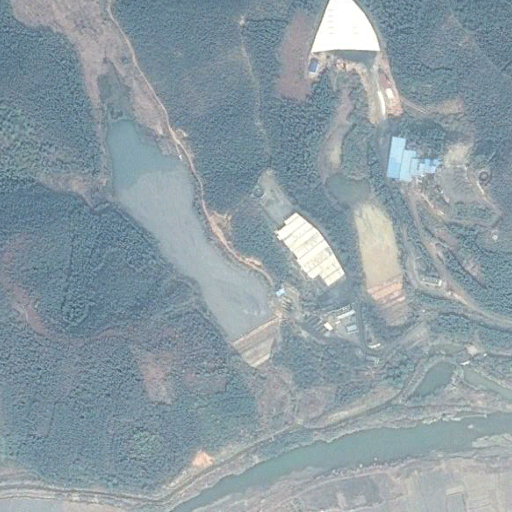tp: (87, 54, 284, 369), (328, 174, 413, 327)
